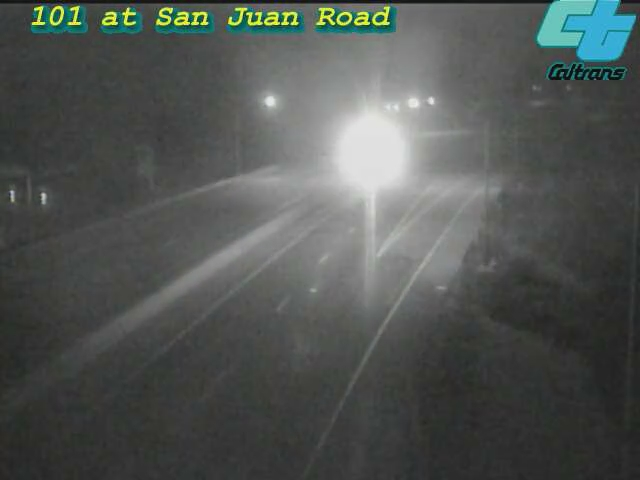vehicle: (333, 122, 383, 172)
